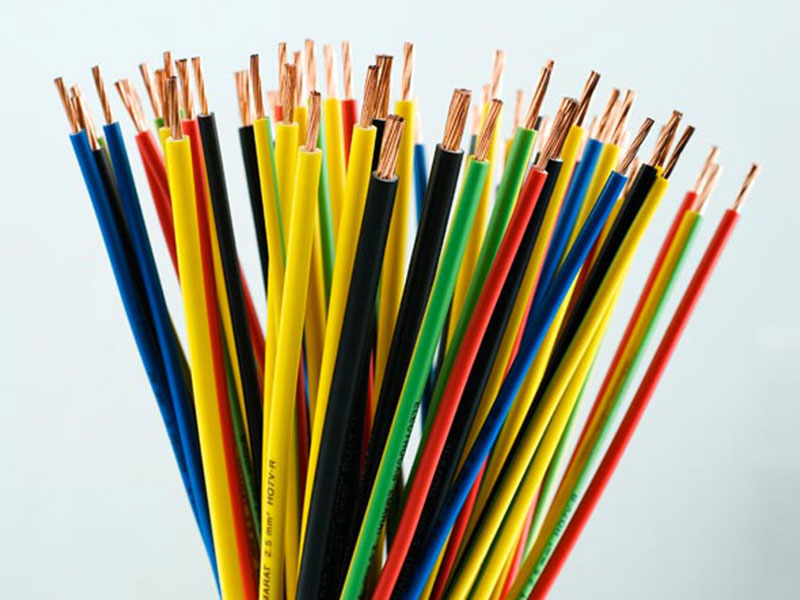Nonrec_Tangler: (56, 22, 749, 583)
